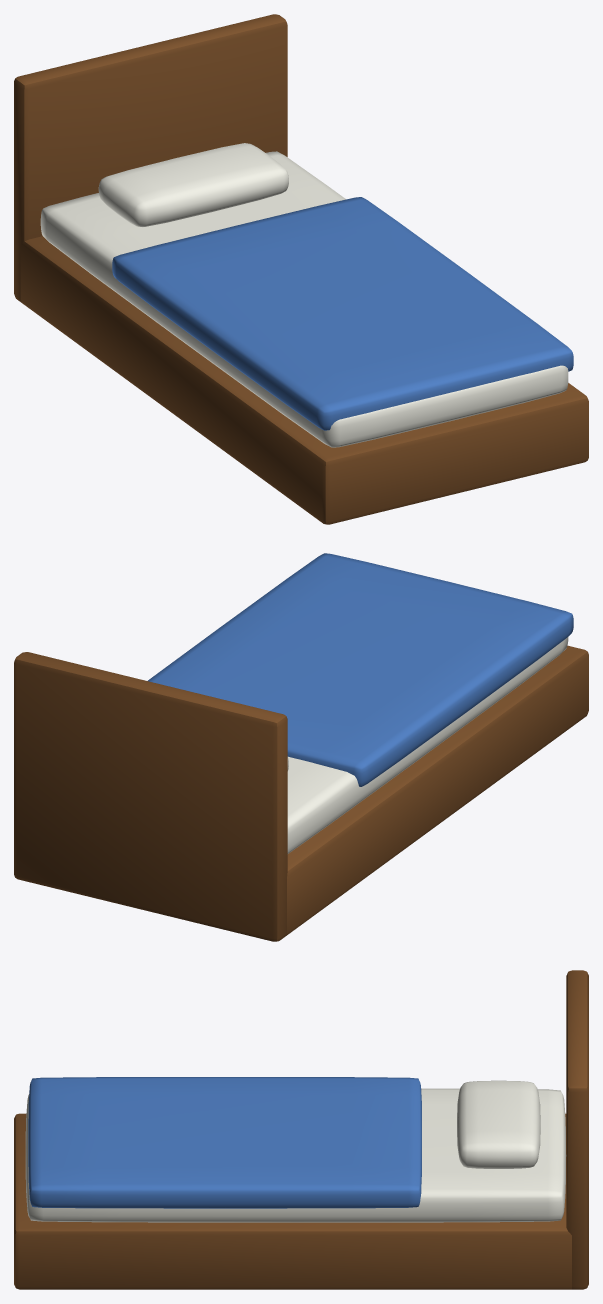
Rendered from bed.glb.
3 renders of one model, top to bottom at view 1: azimuth 30°, elevation 25°; view 2: azimuth 150°, elevation 25°; view 3: azimuth 270°, elevation 25°, orthographic. The views are drawn at different scales.
Visible parts, largest first — view 1: Bed; view 2: Bed; view 3: Bed.
Boxes of the visible parts, x1,y1,x2,y2 form: Bed: (14, 14, 588, 524); Bed: (14, 553, 588, 941); Bed: (14, 970, 588, 1289).
Bounding box in the file's own units: 1 × 0.8 × 2.04.
